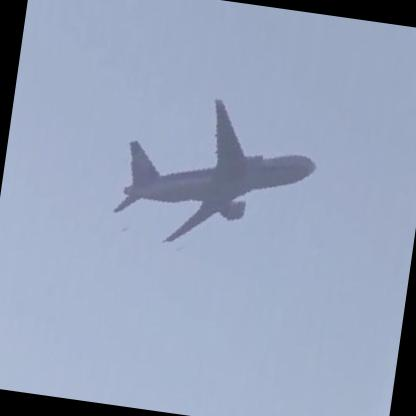plane: (99, 79, 324, 281)
